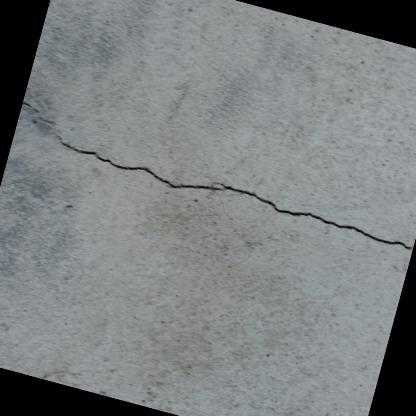crack: (20, 99, 413, 251)
